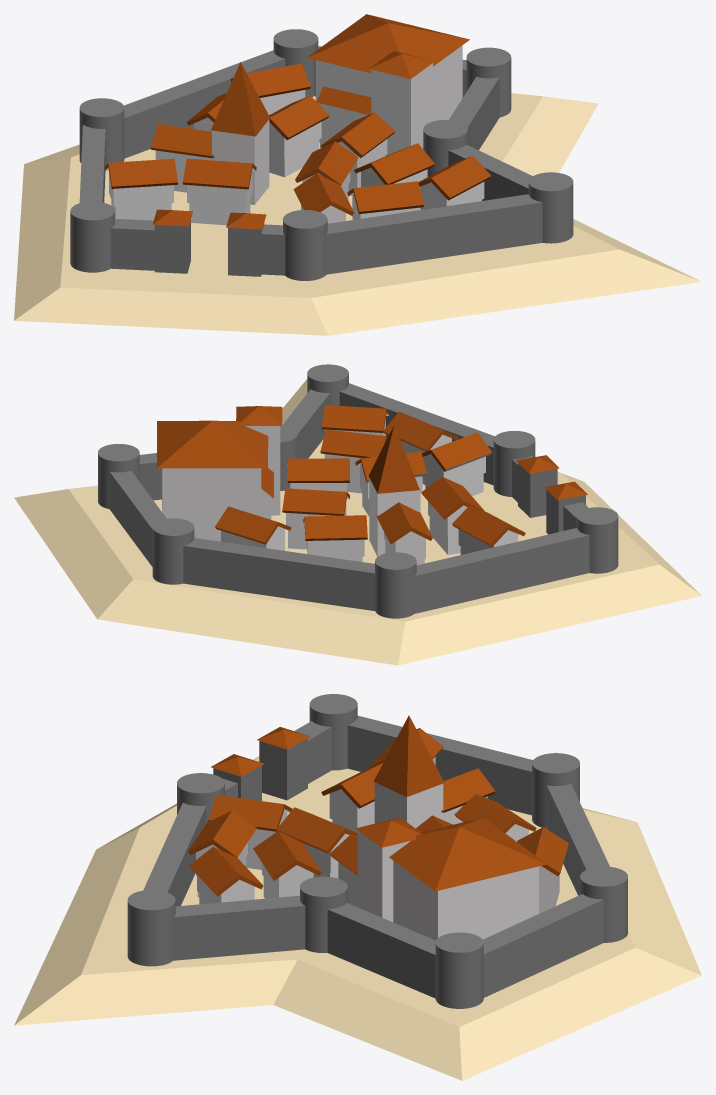
The model's file is town.glb.
3 views of the same model, one above another, from view 1: azimuth 30°, elevation 25°; view 2: azimuth 150°, elevation 25°; view 3: azimuth 270°, elevation 25° (orthographic). The views are drawn at different scales.
Parts seen in each view (by area): view 1: Village fort wall, Plane; view 2: Village fort wall, Plane; view 3: Village fort wall, Plane.
Boxes of the visible parts, x1,y1,x2,y2 form: Village fort wall: (70, 14, 573, 280); Plane: (14, 93, 701, 335); Village fort wall: (98, 364, 618, 618); Plane: (14, 379, 701, 665); Village fort wall: (127, 694, 627, 1008); Plane: (14, 756, 701, 1080).
Size of the model in its own units: 102 by 22.64 by 85.52.
